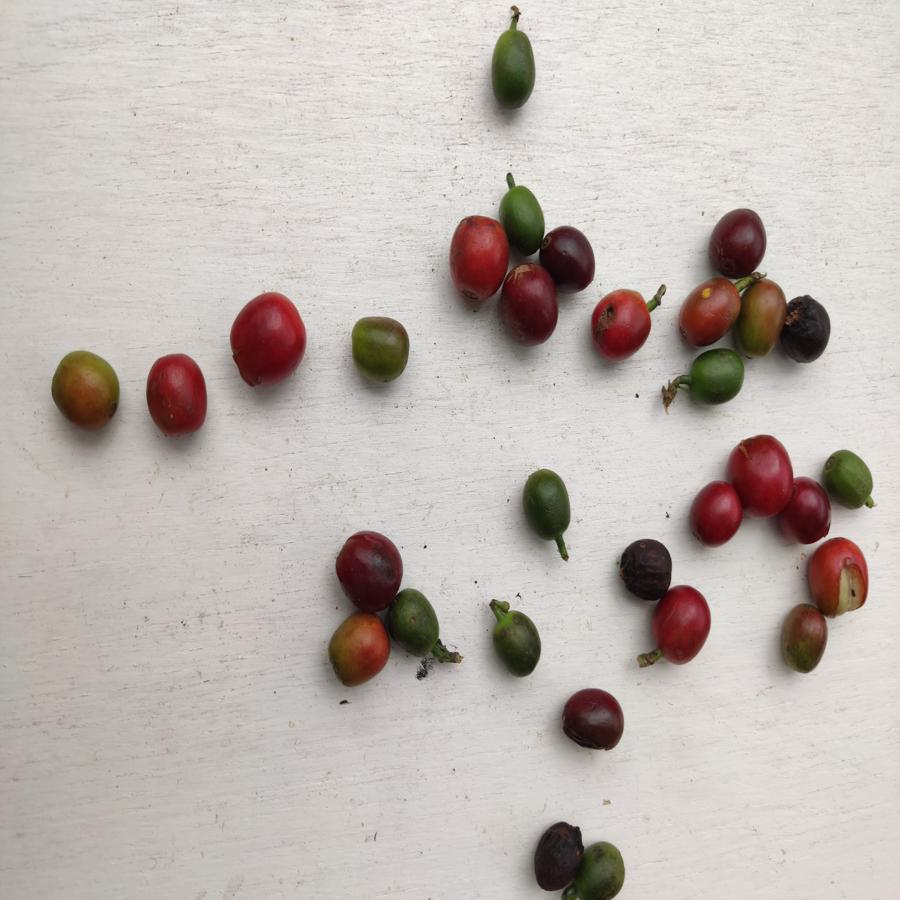Inmaduro: (517, 467, 575, 542), (486, 24, 535, 112), (489, 611, 542, 680), (688, 350, 746, 410), (396, 591, 443, 658), (581, 842, 633, 900), (826, 450, 877, 508), (502, 181, 544, 251)
Maduro: (229, 291, 307, 384), (146, 353, 213, 437), (728, 432, 789, 523), (807, 536, 870, 617), (651, 586, 714, 664), (450, 210, 505, 298), (593, 287, 653, 361), (687, 480, 743, 548), (680, 279, 737, 344)
Pinton: (46, 350, 124, 433), (325, 611, 391, 687), (346, 314, 414, 385), (780, 604, 832, 680), (738, 280, 782, 359)
Sobremaduro: (502, 263, 563, 345), (335, 530, 402, 602), (561, 685, 624, 753), (710, 207, 766, 277), (614, 535, 675, 597), (533, 820, 581, 895), (785, 292, 833, 366), (546, 223, 594, 292), (789, 476, 833, 539)
